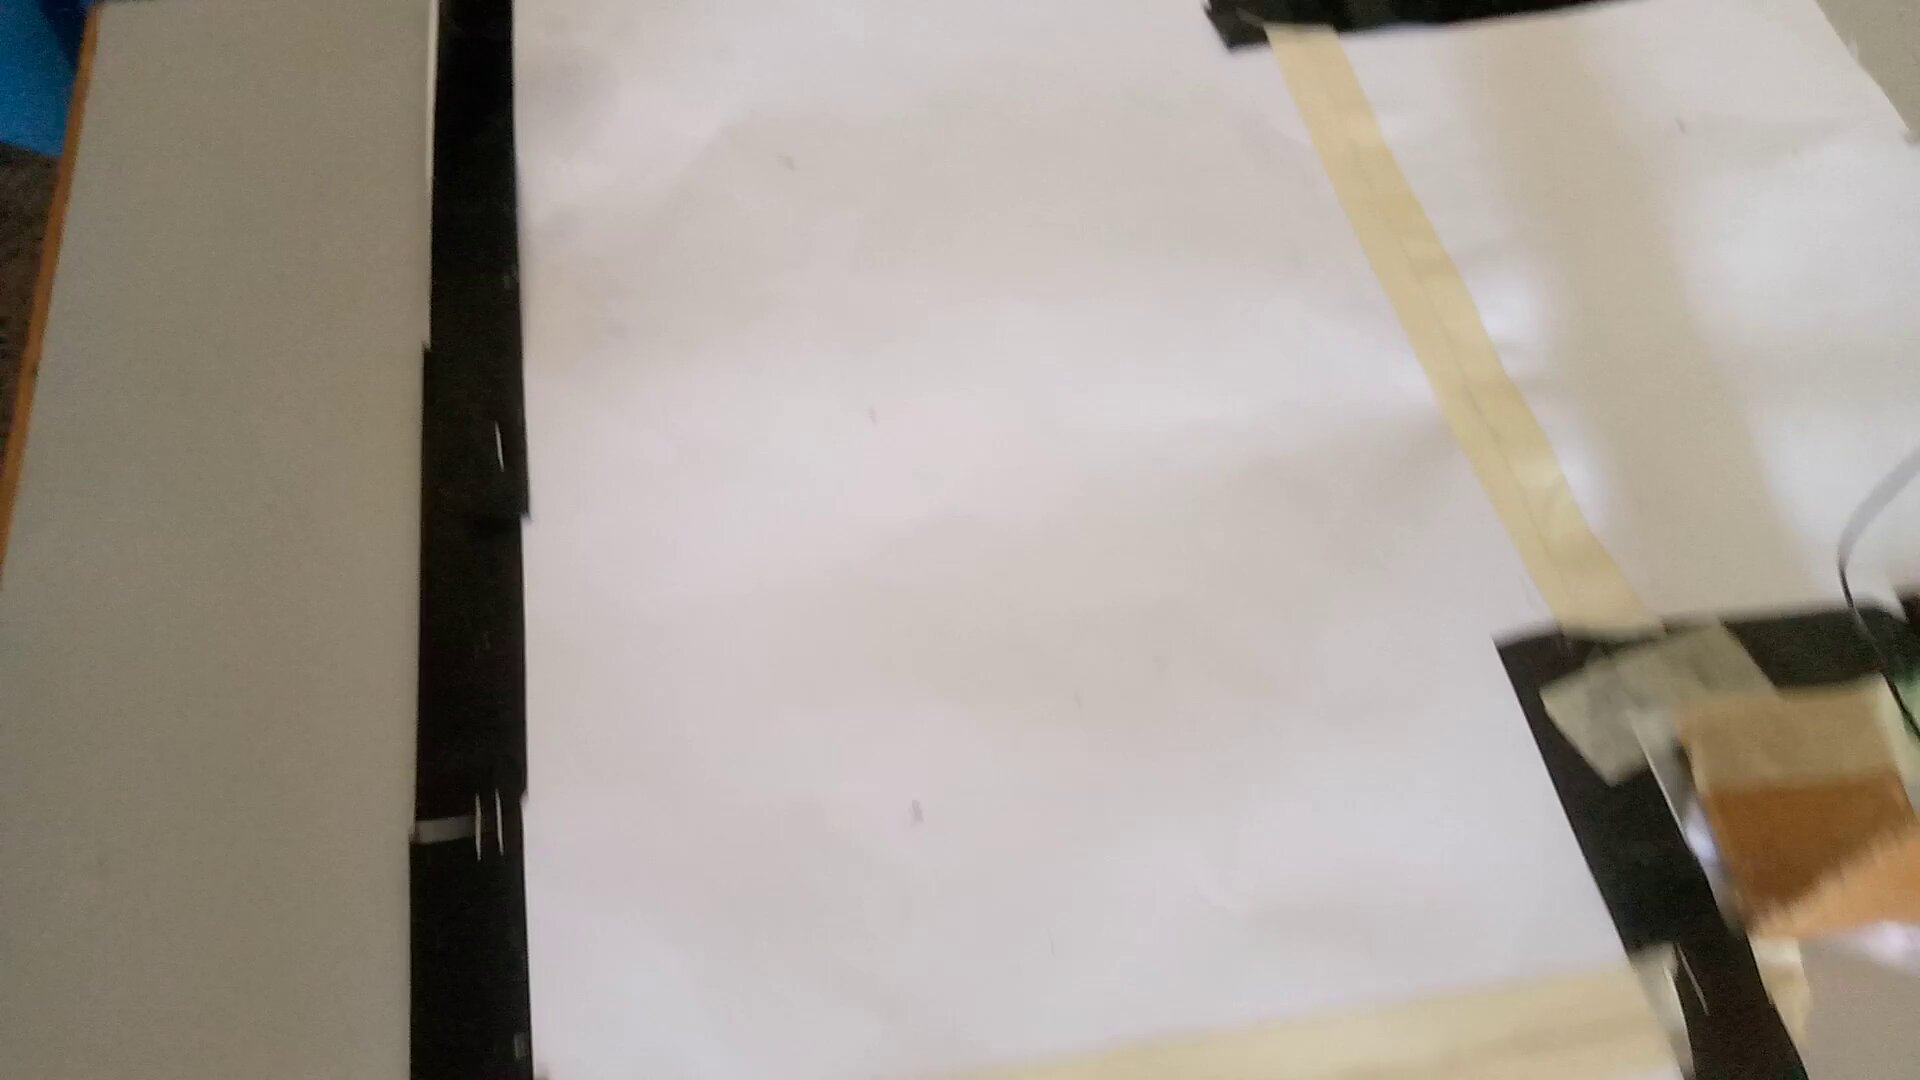right: (413, 1, 1664, 800)
